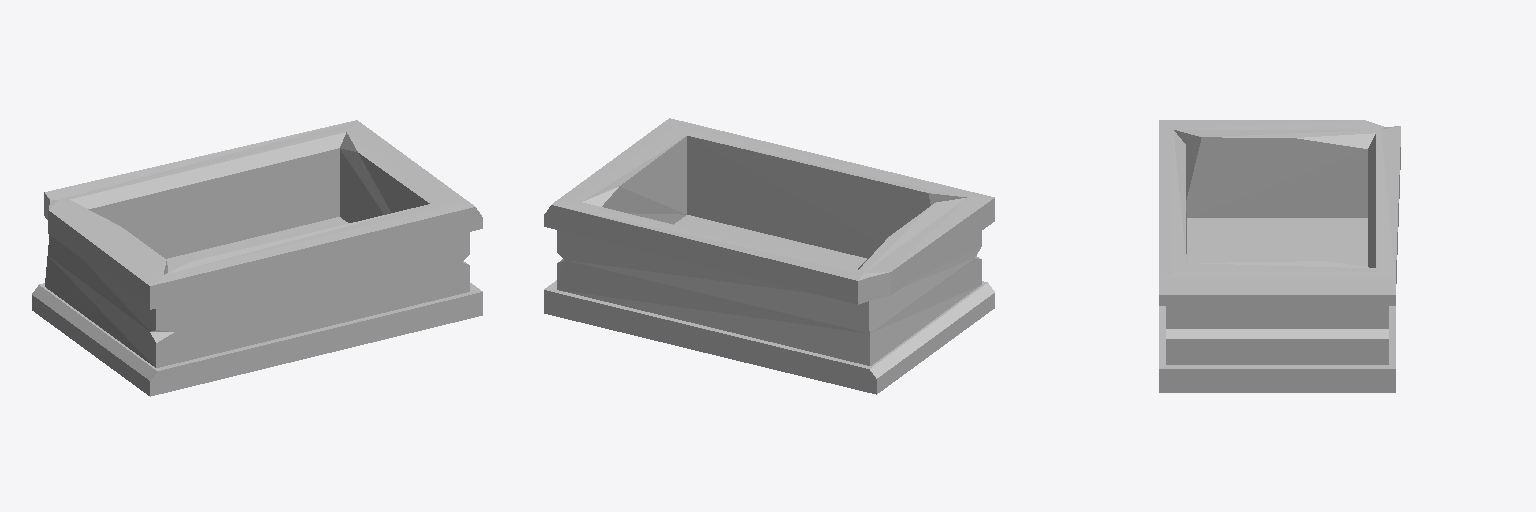
The model's file is misc011.obj.
3 renders of one model, left to right at view 1: azimuth 30°, elevation 25°; view 2: azimuth 150°, elevation 25°; view 3: azimuth 270°, elevation 25°, orthographic.
Visible parts, largest first — view 1: misc011; view 2: misc011; view 3: misc011.
Boxes of the visible parts, x1,y1,x2,y2 form: misc011: [32, 120, 482, 396]; misc011: [544, 118, 994, 394]; misc011: [1159, 120, 1400, 392].
Bounding box in the file's own units: 0.0167 × 0.0054 × 0.0105.